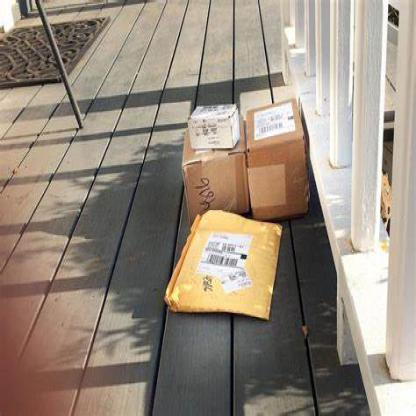package: (246, 96, 310, 226), (183, 117, 246, 243), (186, 102, 241, 148)
